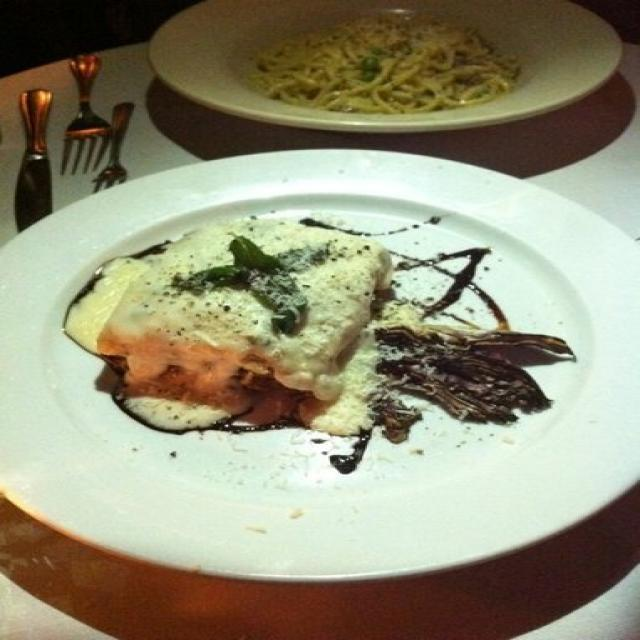Lasagna: (77, 206, 414, 425)
